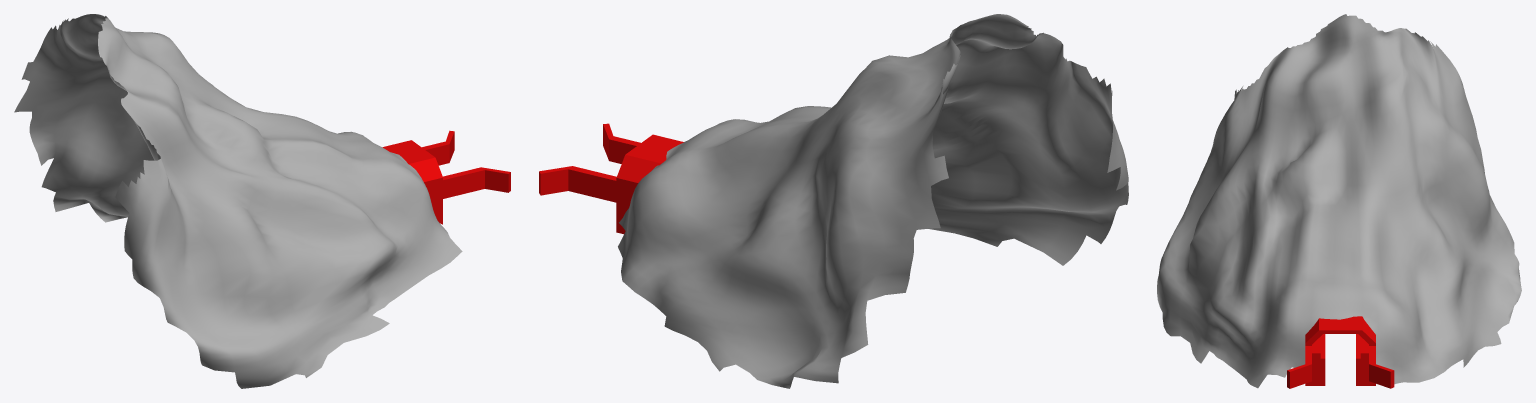
The model's file is MountainDock.fbx.
The picture shows the model from 3 angles, left to right: view 1: azimuth 30°, elevation 25°; view 2: azimuth 150°, elevation 25°; view 3: azimuth 270°, elevation 25°; orthographic projection. The views are drawn at different scales.
Parts seen in each view (by area): view 1: MountainBaseRockLower, MountainDock; view 2: MountainBaseRockLower, MountainDock; view 3: MountainBaseRockLower, MountainDock.
Part boxes in pixels (box(x1,y1,x2,y2)): MountainBaseRockLower: box(14, 14, 462, 388); MountainDock: box(382, 130, 510, 224); MountainBaseRockLower: box(618, 14, 1128, 388); MountainDock: box(539, 123, 683, 234); MountainBaseRockLower: box(1157, 14, 1521, 388); MountainDock: box(1287, 316, 1394, 388).
Size of the model in its own units: 11.63 by 8.04 by 9.75.
